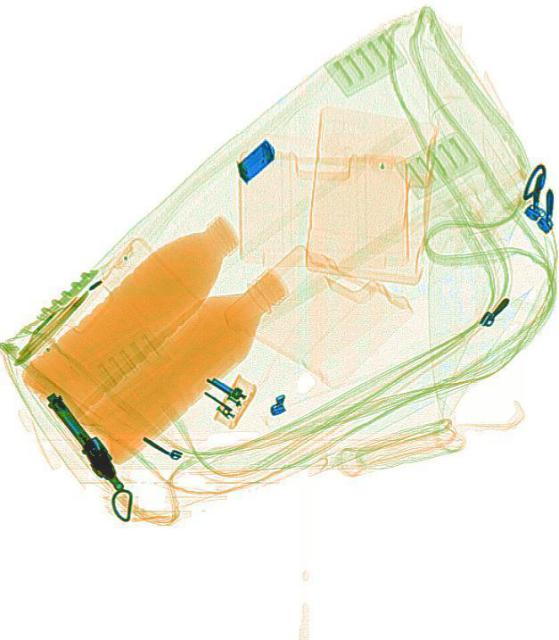Gun: (35, 384, 138, 501)
